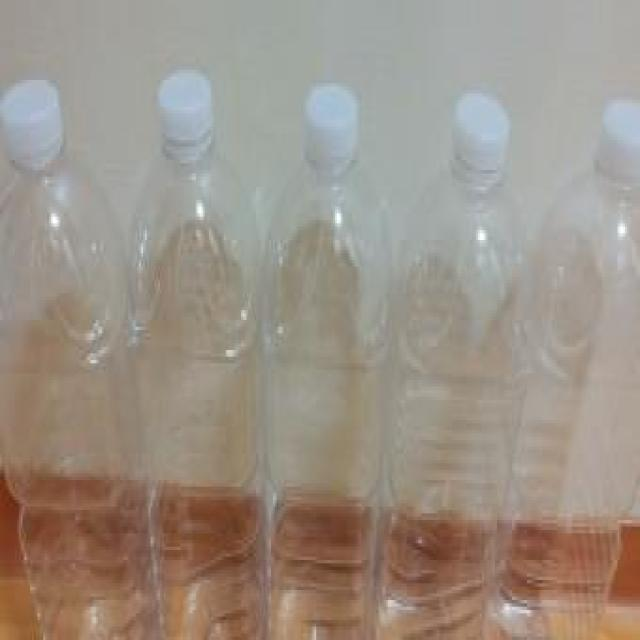bottle: (393, 93, 547, 640), (123, 70, 264, 640), (268, 83, 395, 640), (512, 90, 640, 640), (0, 80, 100, 640)
